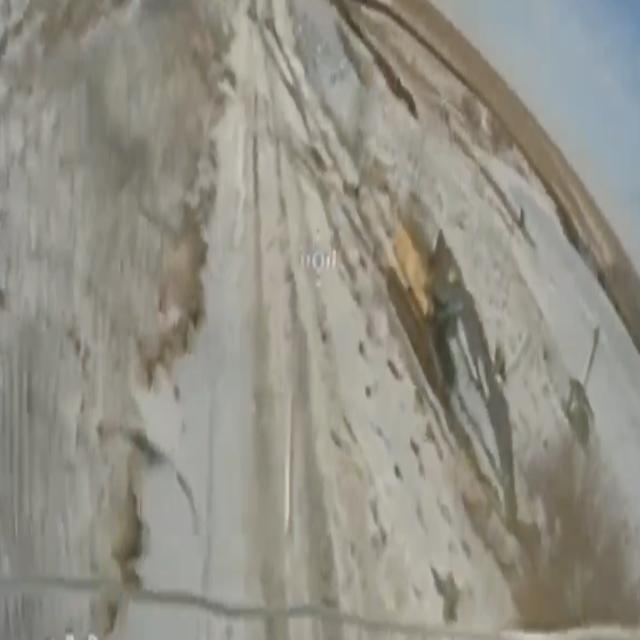vehicle: (388, 206, 458, 405)
